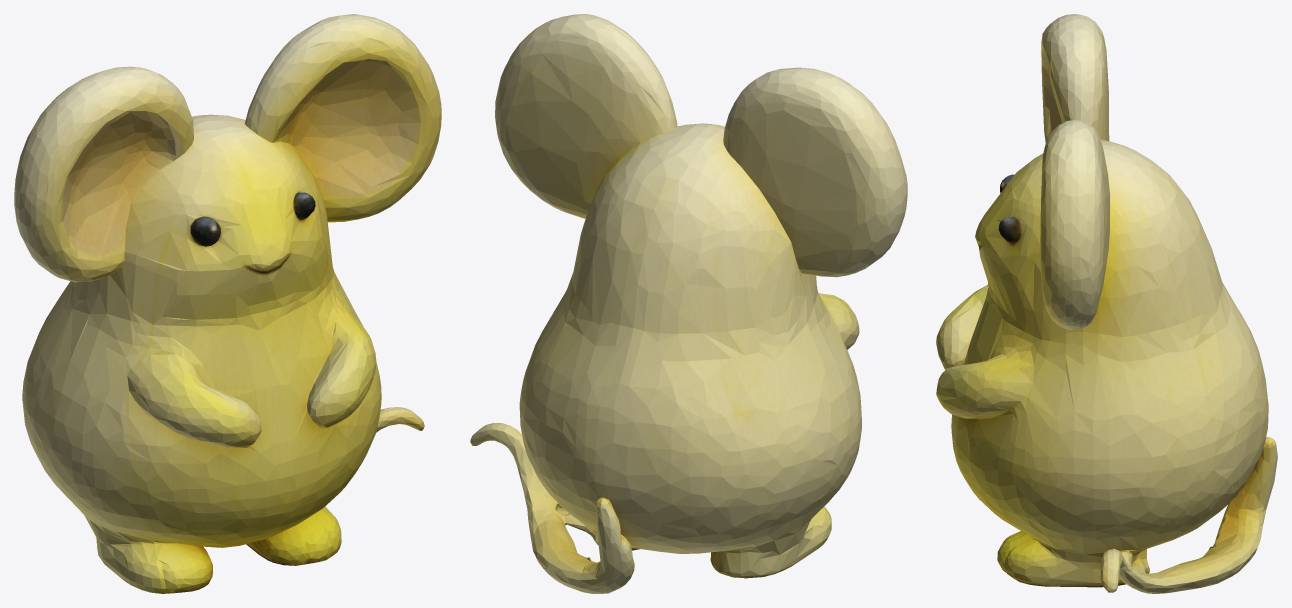
The model's file is mouse.glb.
3 views of the same model, side by side, from view 1: azimuth 30°, elevation 25°; view 2: azimuth 150°, elevation 25°; view 3: azimuth 270°, elevation 25° (orthographic). The views are drawn at different scales.
Parts seen in each view (by area): view 1: geometry_0; view 2: geometry_0; view 3: geometry_0.
Boxes of the visible parts, box(x1,y1,x2,y2) form: geometry_0: box(14, 14, 441, 593); geometry_0: box(470, 14, 907, 593); geometry_0: box(936, 14, 1277, 593).
Bounding box in the file's own units: 0.0821 × 0.094 × 0.0613.
Materials: 1 (1 with a texture image).
